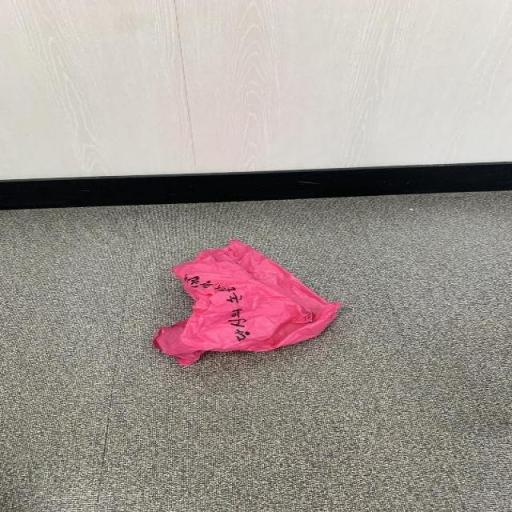plastic-bag: (150, 238, 344, 370)
